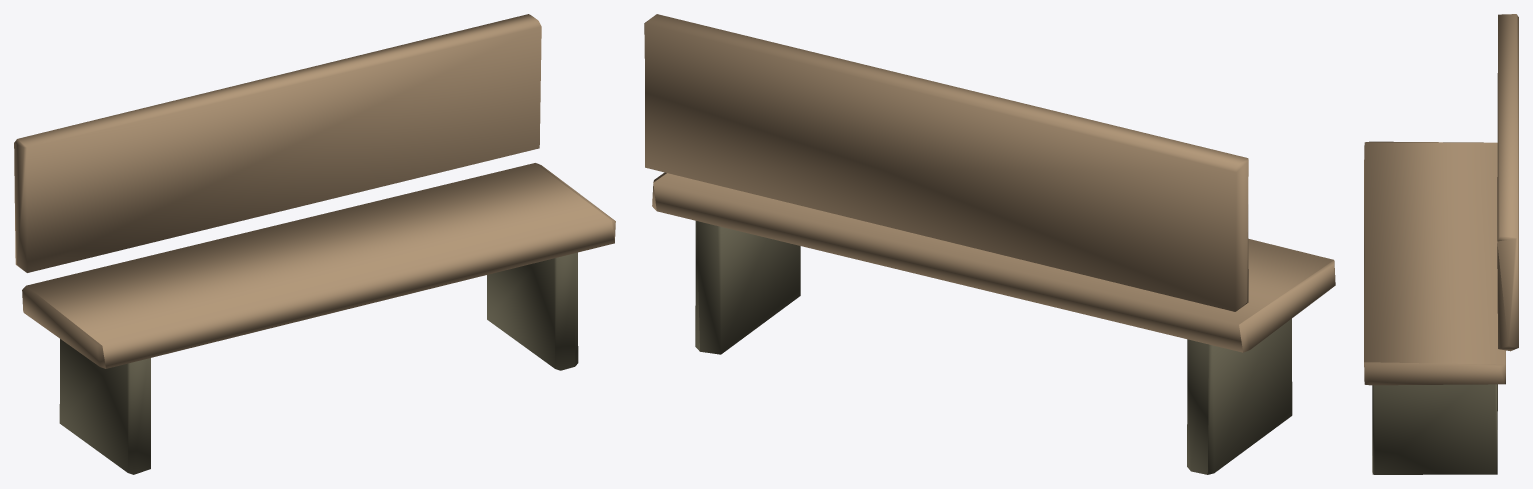
File: SM_Warmerdamm_Bench_LOD2.fbx
3 views of the same model, side by side, from view 1: azimuth 30°, elevation 25°; view 2: azimuth 150°, elevation 25°; view 3: azimuth 270°, elevation 25° (orthographic). The views are drawn at different scales.
Parts seen in each view (by area): view 1: SM_Warmerdamm_Bench_LOD2; view 2: SM_Warmerdamm_Bench_LOD2; view 3: SM_Warmerdamm_Bench_LOD2.
Part boxes in pixels (bbox=[...]): SM_Warmerdamm_Bench_LOD2: bbox=[14, 14, 615, 474]; SM_Warmerdamm_Bench_LOD2: bbox=[644, 14, 1335, 474]; SM_Warmerdamm_Bench_LOD2: bbox=[1364, 14, 1518, 474].
Bounding box in the file's own units: 1.91 × 0.9968 × 0.5511.
